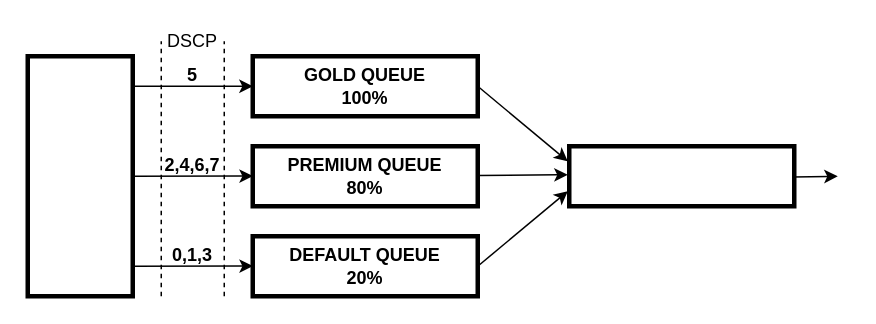
Image size: 876x324. Some labels were removed from this diagram. Each missing label, with the centre of its shape:
HARDWARE QUEUE: (681,175)
Sending packets: (79,175)
